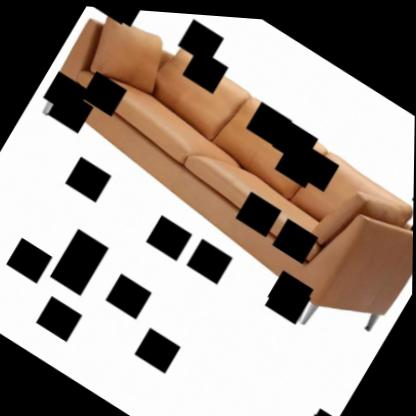Sofa: (26, 2, 416, 336)
